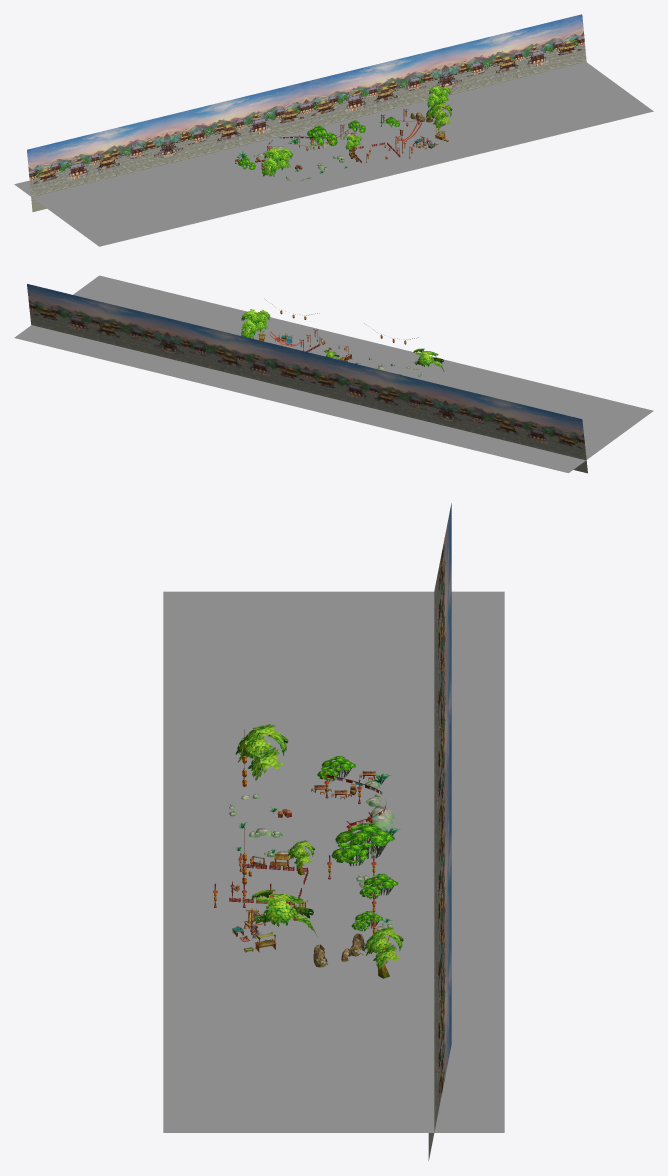
The model's file is 3k_map.FBX.
3 views of the same model, one above another, from view 1: azimuth 30°, elevation 25°; view 2: azimuth 150°, elevation 25°; view 3: azimuth 270°, elevation 25° (orthographic). The views are drawn at different scales.
Visible parts, largest first — view 1: 3k_map_dm, 3k_map_bj, 3k_map_tw, 3k_map_tree00, 3k_map_tree01; view 2: 3k_map_dm, 3k_map_bj, 3k_map_tree00, 3k_map_tw; view 3: 3k_map_dm, 3k_map_bj, 3k_map_tw, 3k_map_tree00, 3k_map_tree01.
Boxes of the visible parts, x1,y1,x2,y2 form: 3k_map_dm: (14, 62, 653, 246); 3k_map_bj: (27, 14, 586, 211); 3k_map_tw: (235, 97, 449, 180); 3k_map_tree00: (262, 85, 452, 176); 3k_map_tree01: (238, 116, 399, 169); 3k_map_dm: (14, 275, 653, 473); 3k_map_bj: (27, 284, 587, 473); 3k_map_tree00: (241, 309, 444, 371); 3k_map_tw: (258, 300, 423, 376); 3k_map_dm: (163, 591, 504, 1132); 3k_map_bj: (428, 503, 451, 1160); 3k_map_tw: (213, 729, 394, 978); 3k_map_tree00: (235, 724, 403, 969); 3k_map_tree01: (317, 755, 398, 931).
Size of the model in its own units: 47328 by 4757 by 12598.
